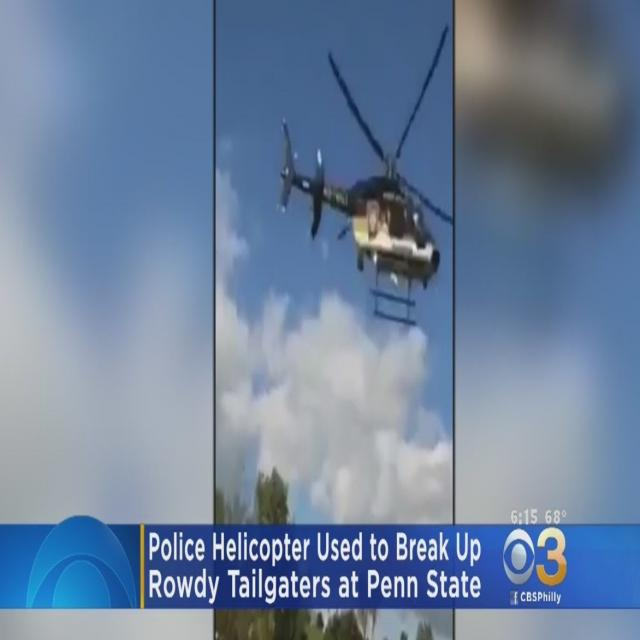helicopter: (272, 28, 451, 328)
